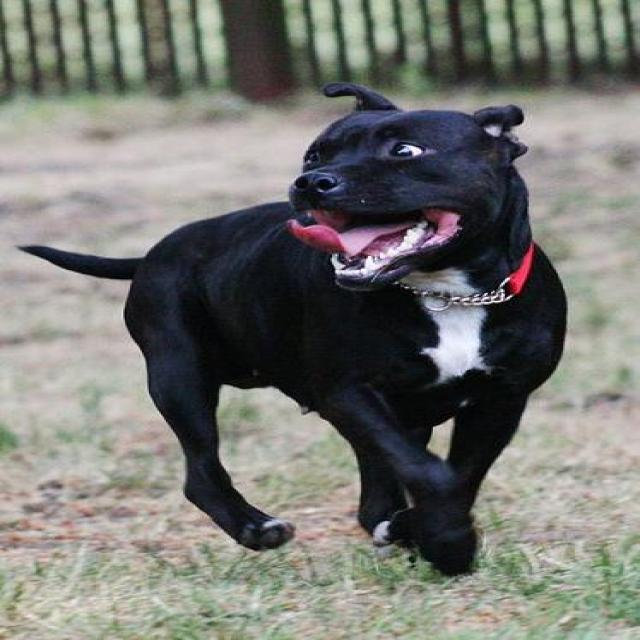happy: (1, 85, 595, 571)
